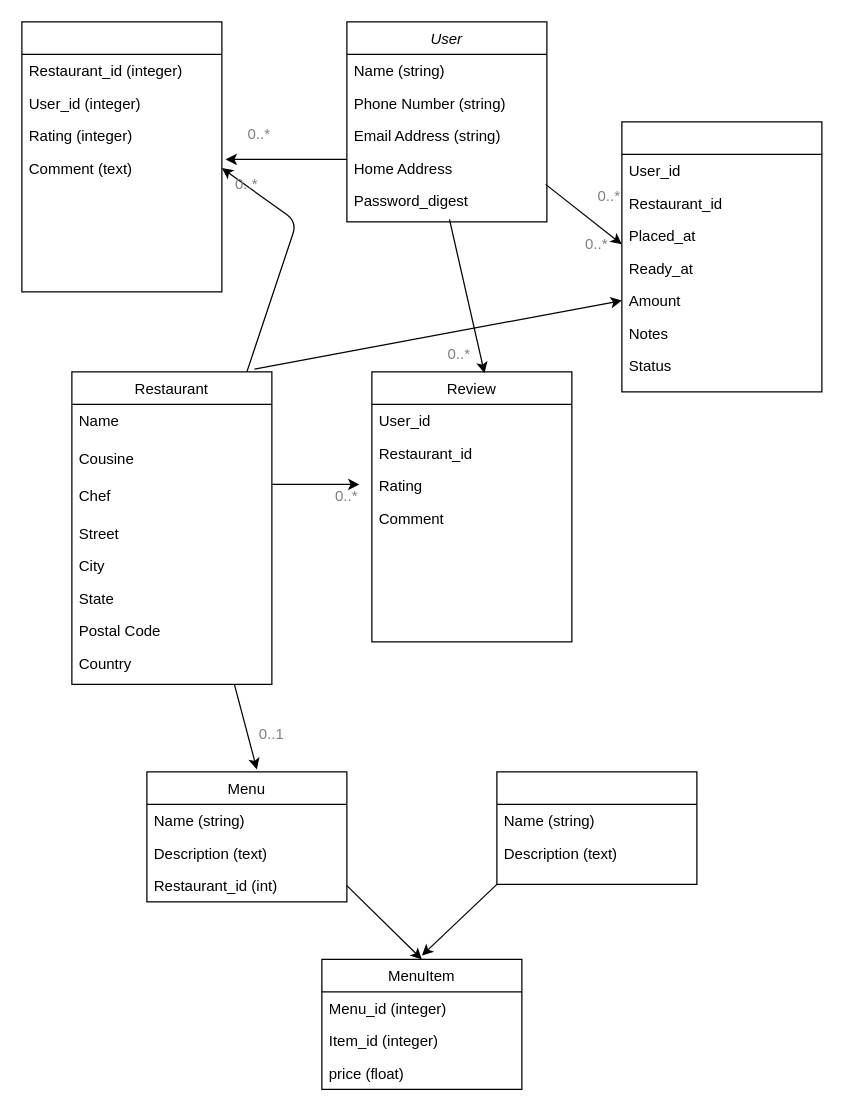
This 844x1115 diagram has some shape labels left out. The shapes that lost their labels are listed below. From the top down, each one's box as (x1, y1, x2, y2) in pixels, then its label:
(21, 21, 222, 292): FavoriteRestaurant
(621, 121, 822, 392): Order
(496, 771, 697, 884): Item
